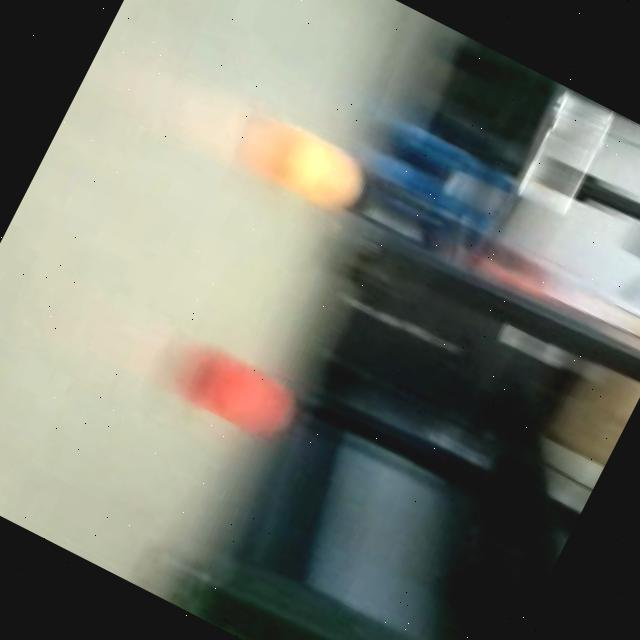ping-pong-ball: (256, 111, 390, 230), (180, 340, 306, 450)
